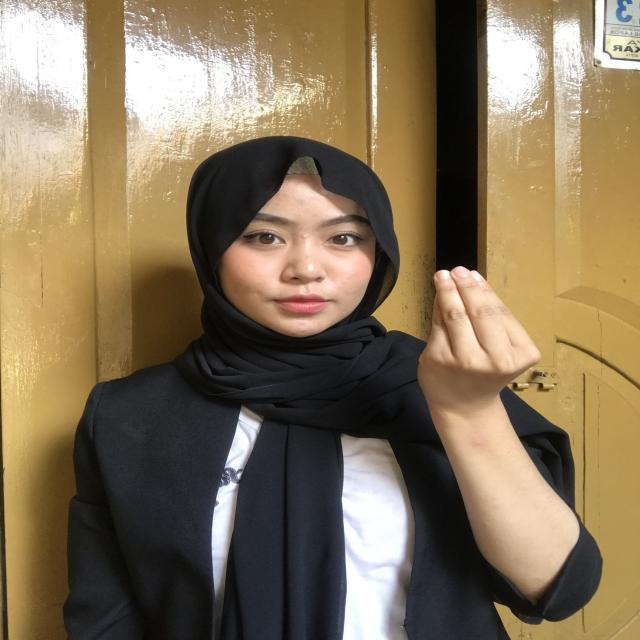berapa: (395, 270, 546, 440)
